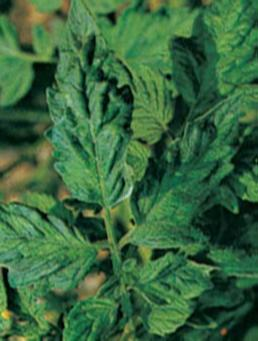Tomato leaf mosaic virus: (46, 0, 145, 203), (125, 96, 245, 252), (173, 0, 258, 114), (0, 193, 97, 289), (120, 254, 223, 297), (65, 288, 127, 341)
